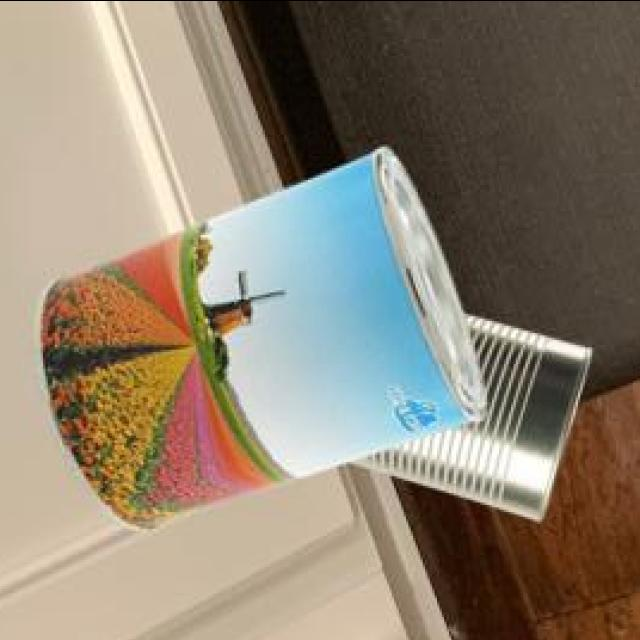logam: (32, 142, 484, 527), (347, 309, 589, 517)
